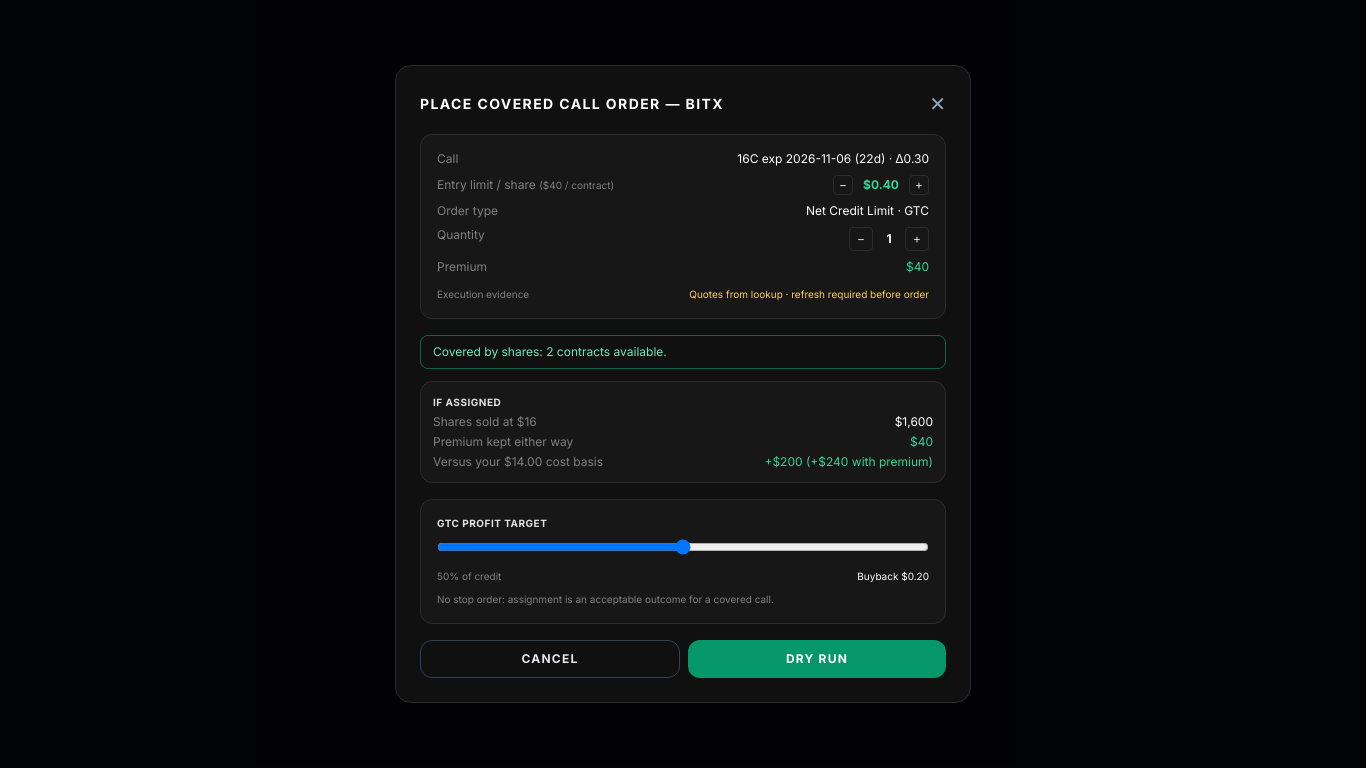
it: CcTradeModal › shows proven coverage and places exactly once after a dry run, with one Buy to Close and no stop
Click the button "DRY RUN" at (817, 659), box [688,640,946,678]
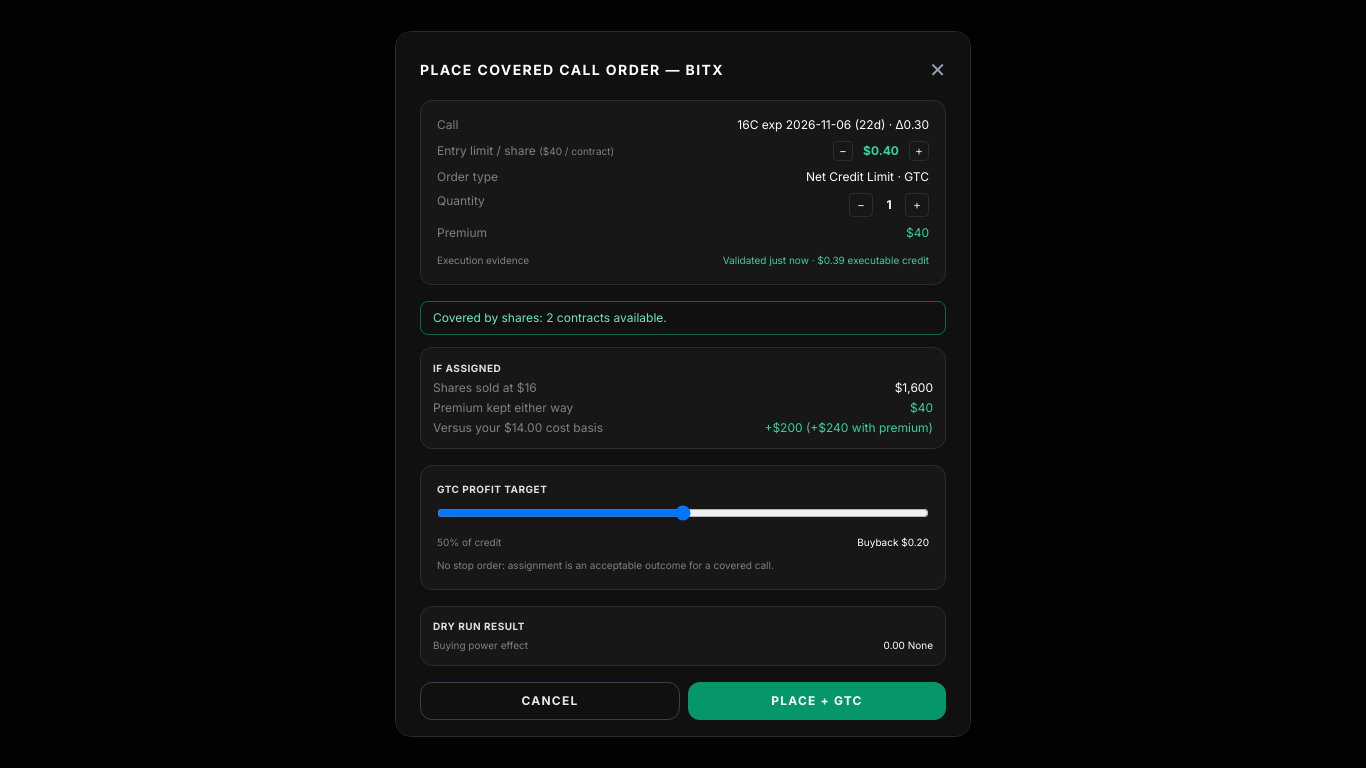
Click the button "PLACE + GTC" at (817, 701), box [688,682,946,720]
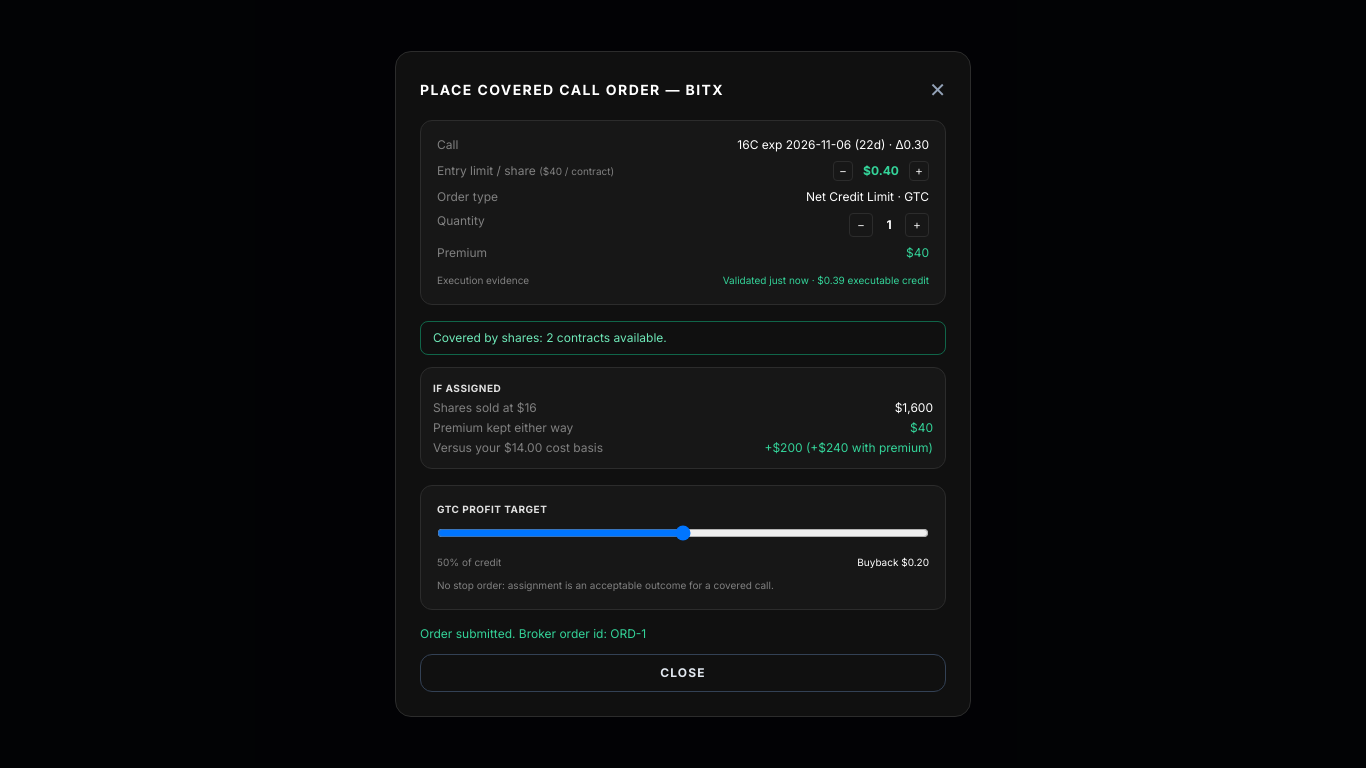
Now the text "Order submitted. Broker order id: ORD-1" is shown, box [420,626,646,641]
